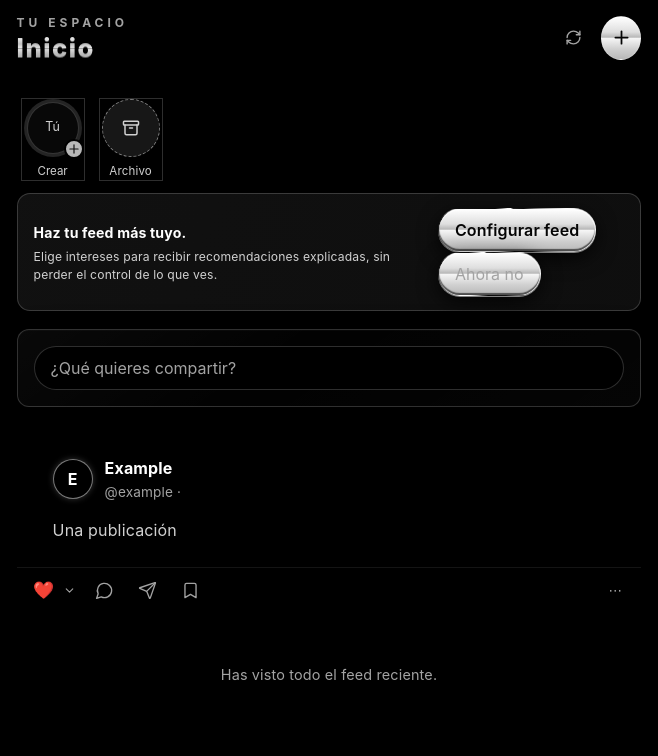
it: feed muestra acciones sociales y revierte like rechazado
Check: the button named "Comentar. 0 comentarios" is shown, box [86,568,124,612]
Check: the button named "Compartir publicación" is shown, box [129,568,167,612]
What coordinates should you click on to do the following:
click the button named "Reaccionar. 0 reacciones"
I would click on:
 (43, 590)
Its box is [24,568,62,612].
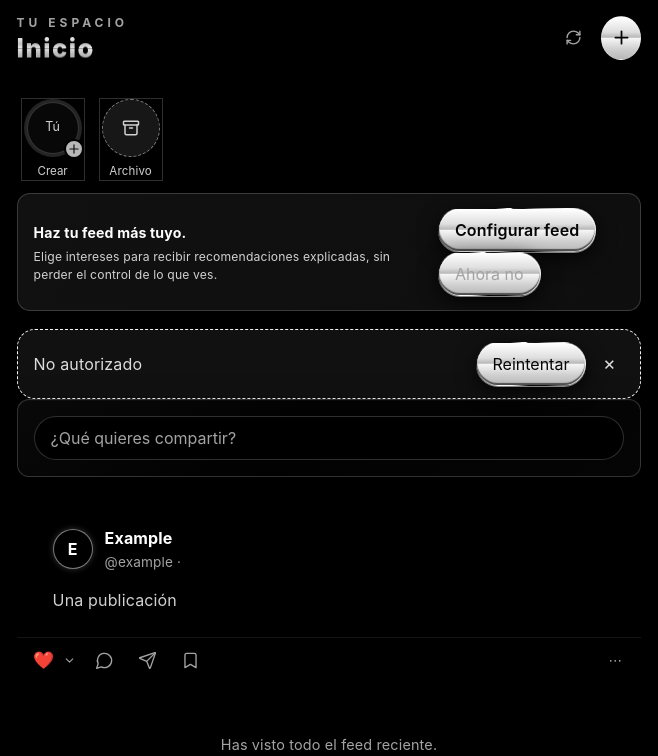
Check: the button named "Reaccionar. 0 reacciones" is shown, box [24,638,62,682]
Check: the message "No autorizado Reintentar ×" is shown, box [17,329,641,399]
